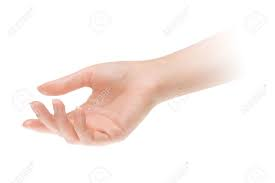hand: (16, 59, 158, 151)
